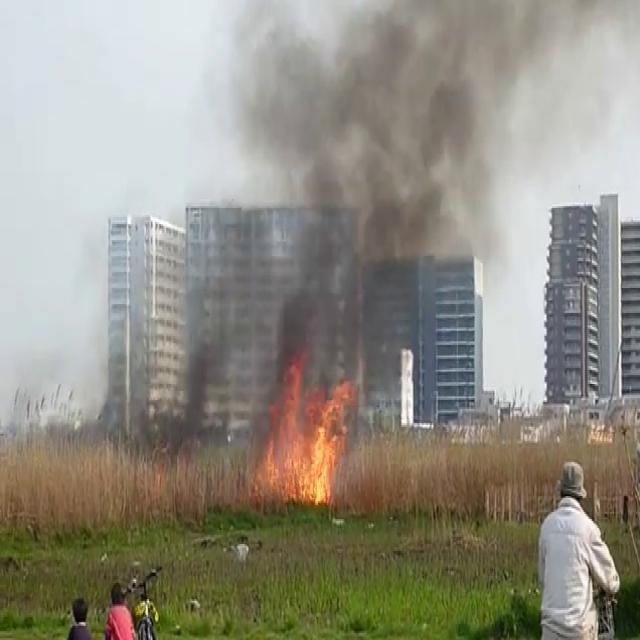Fire: (250, 358, 354, 511)
Smoke: (237, 0, 532, 388), (143, 229, 282, 457)
